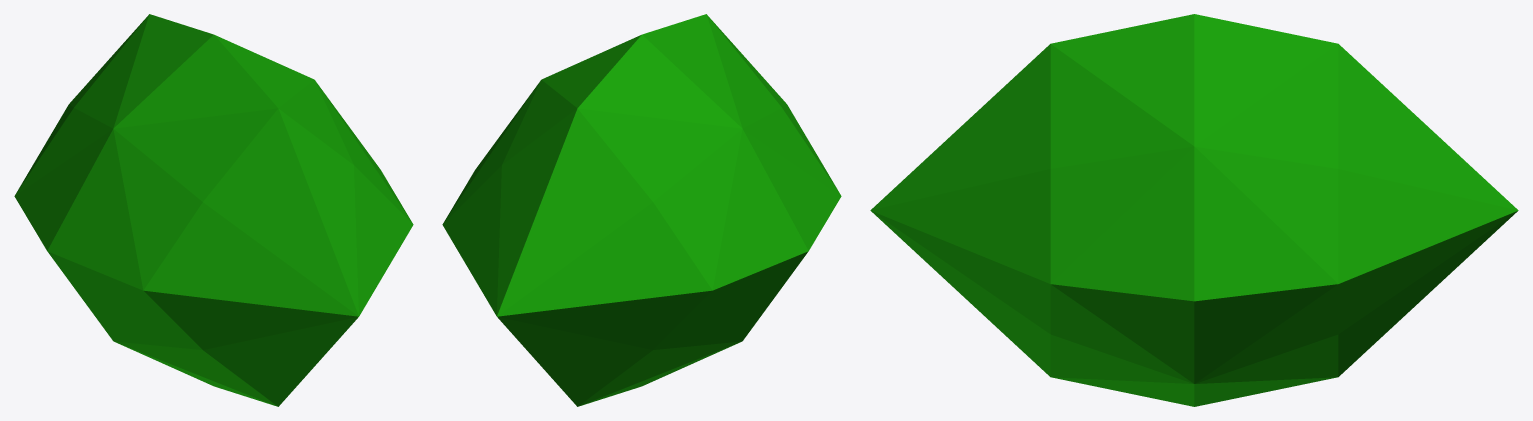
File: CrystalGreen.obj
3 views of the same model, side by side, from view 1: azimuth 30°, elevation 25°; view 2: azimuth 150°, elevation 25°; view 3: azimuth 270°, elevation 25° (orthographic). The views are drawn at different scales.
Visible parts, largest first — view 1: CrystalGreen; view 2: CrystalGreen; view 3: CrystalGreen.
Boxes of the visible parts, x1,y1,x2,y2 form: CrystalGreen: (14,14,413,406); CrystalGreen: (442,14,841,406); CrystalGreen: (870,14,1518,406).
Size of the model in its own units: 0.8962 by 0.9034 by 1.35.
